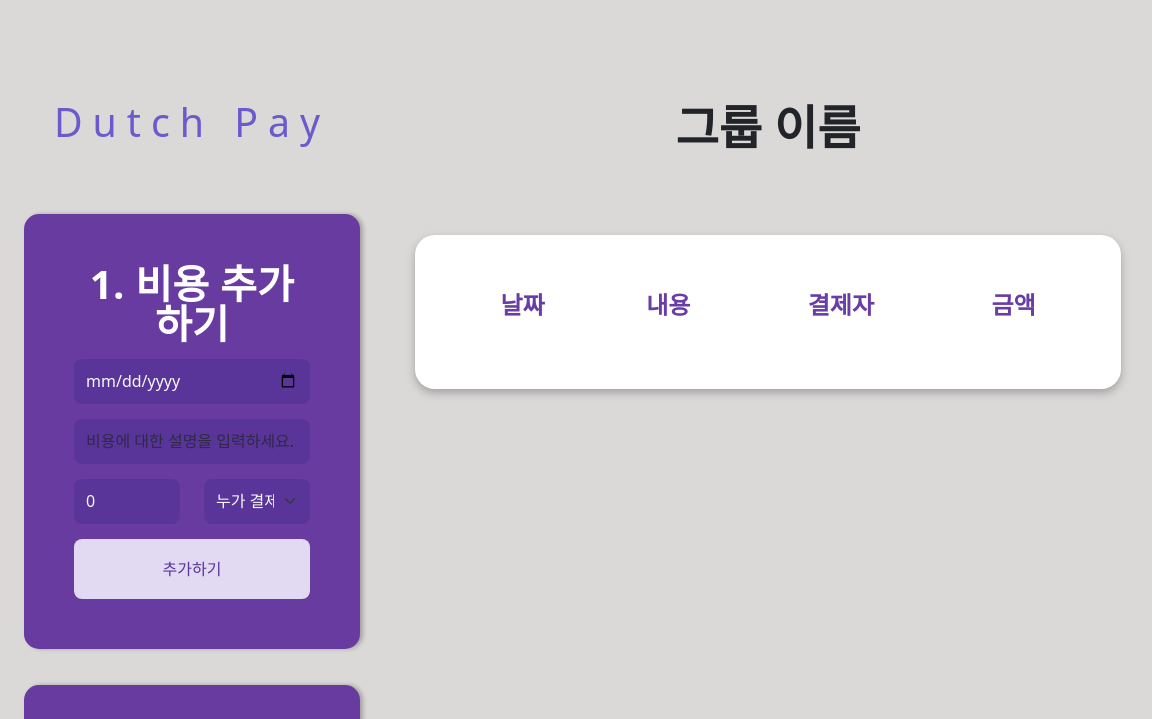
Scenario: 비용 정산 메인 페이지 › 새로운 비용이 입력 되었을 때 › 정산 결과 또한 업데이트가 된다.
The image size is (1152, 719).
In the date field with placeholder "결제한 날짜를 입력하세요.": x=192, y=381 [74,358,310,404], type "2023-08-04"
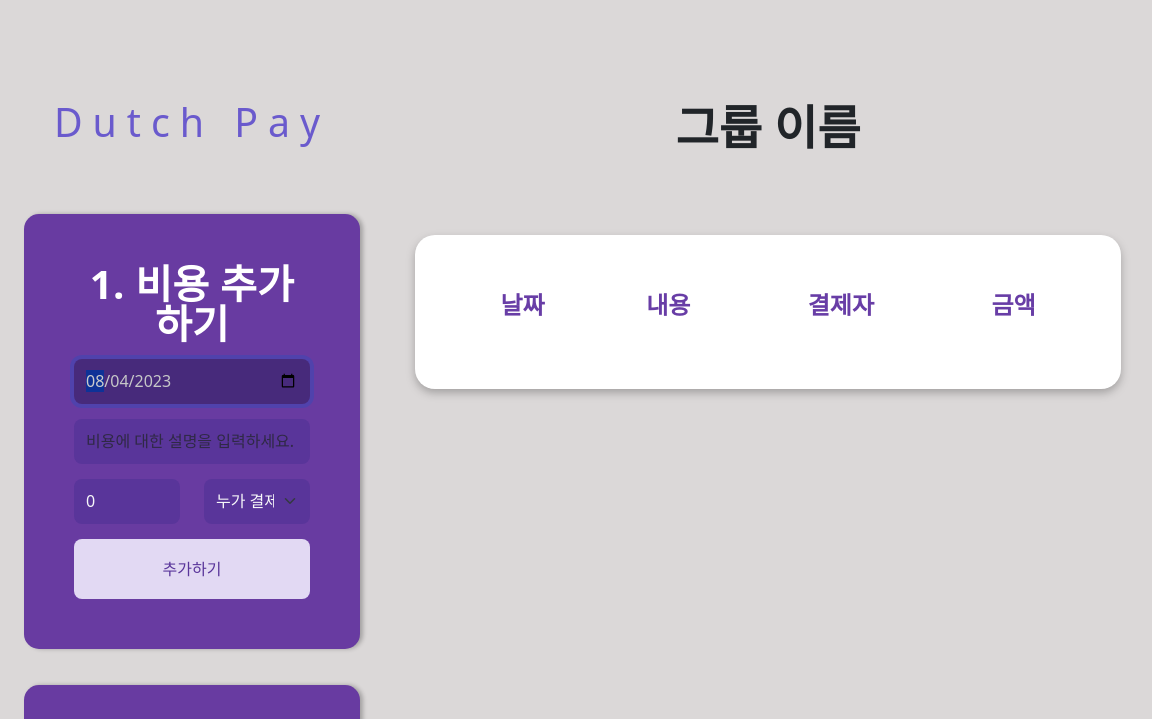
In the field with placeholder "비용에 대한 설명을 입력하세요.": x=192, y=441 [74,418,310,464], type "장보기"
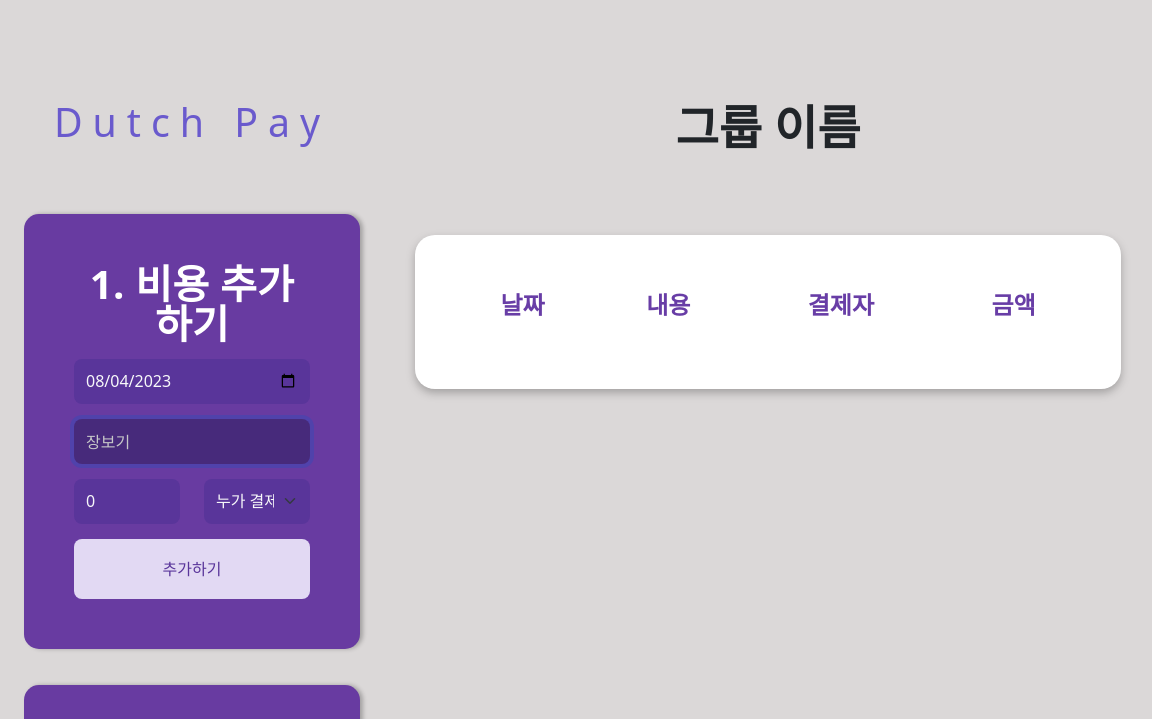
In the number field with placeholder "비용은 얼마였나요?": x=127, y=501 [74,478,180,524], type "3000"
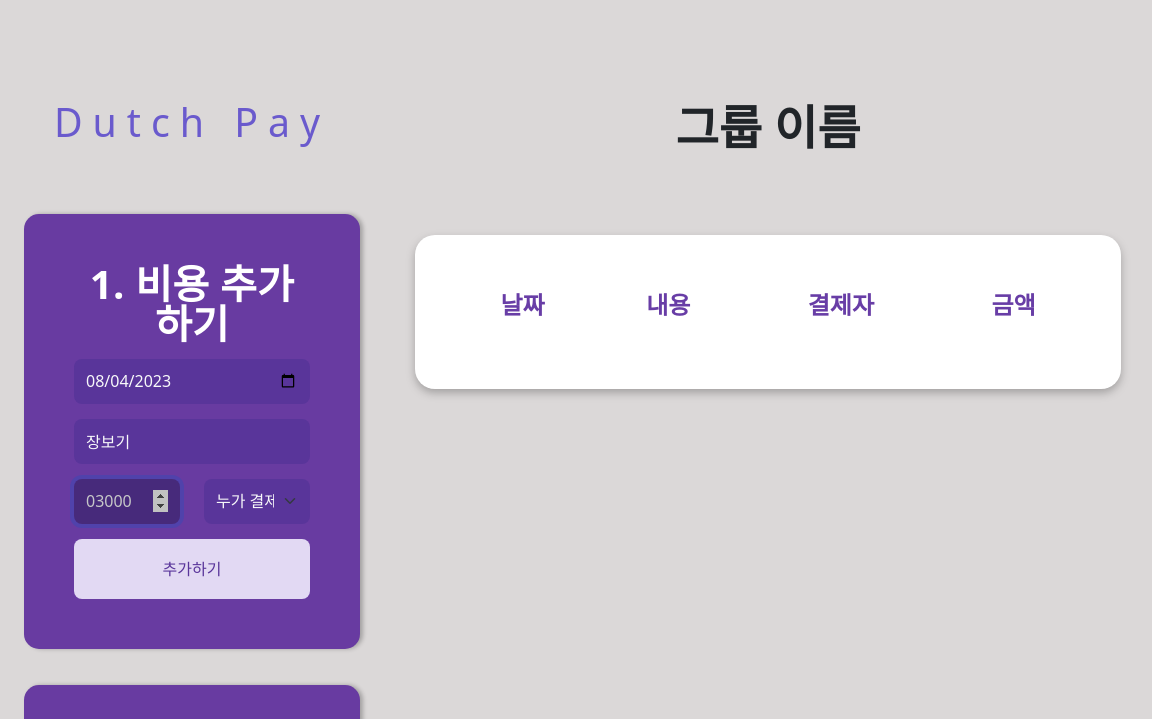
Select "영수" in the dropdown showing "누가 결제": x=257, y=501 [204,478,310,524]
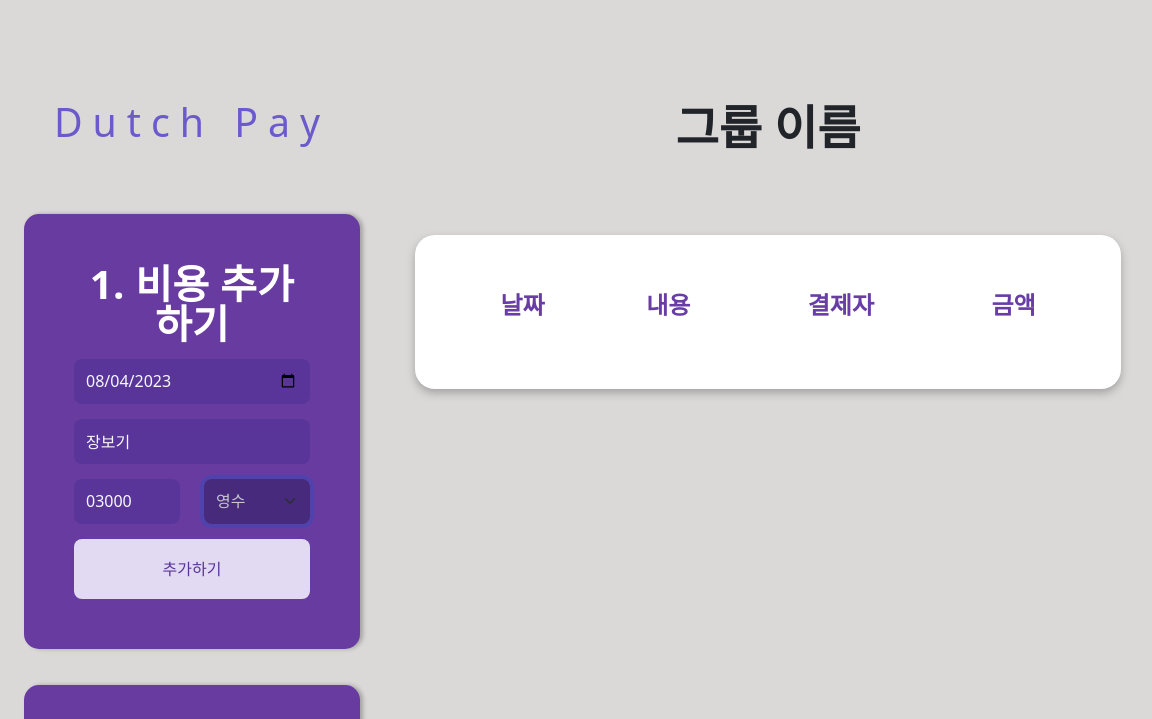
Click the button "추가하기": x=192, y=568 [74,538,310,598]
(page scrolled)
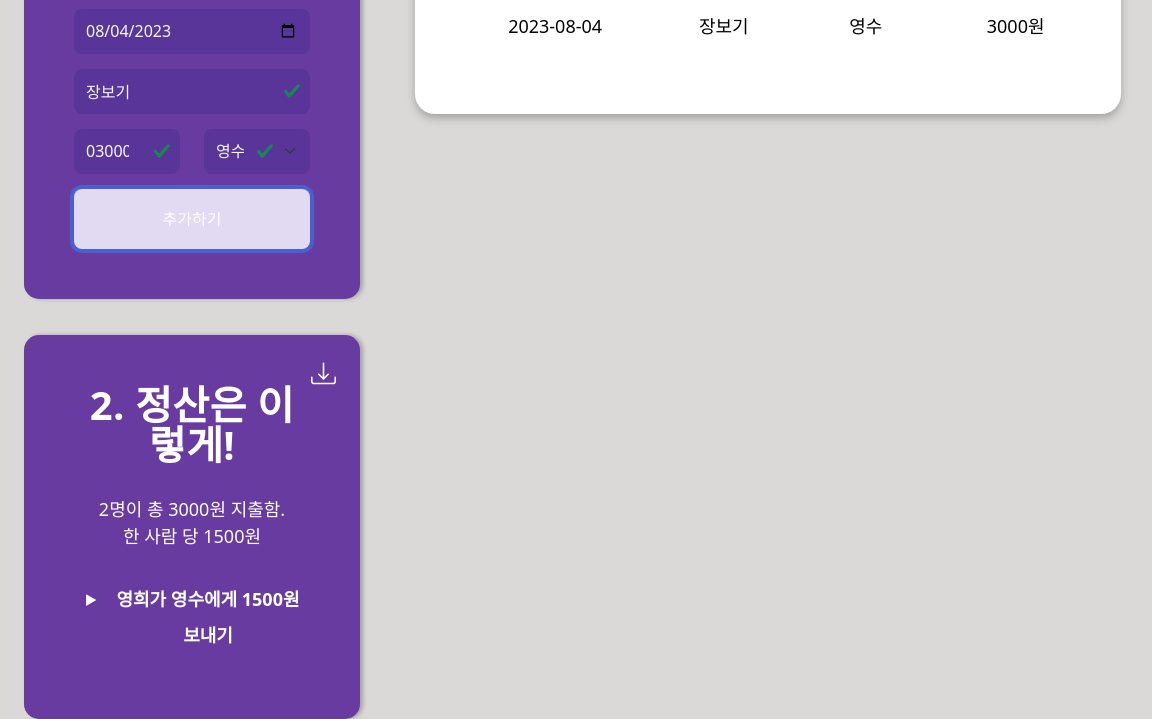
Result: the text "2명이 총 3000원 지출함." is shown at [99,496,285,520]
Result: the text "영희가 영수에게 1500원 보내기" is shown at [116,586,300,646]
